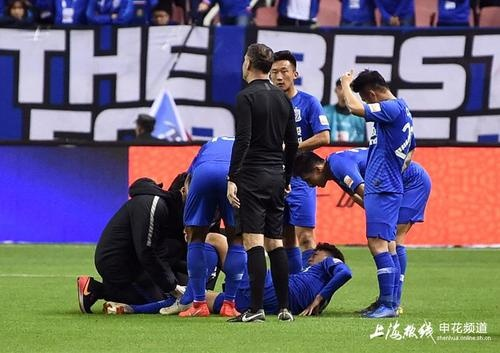falling: (227, 230, 364, 321)
